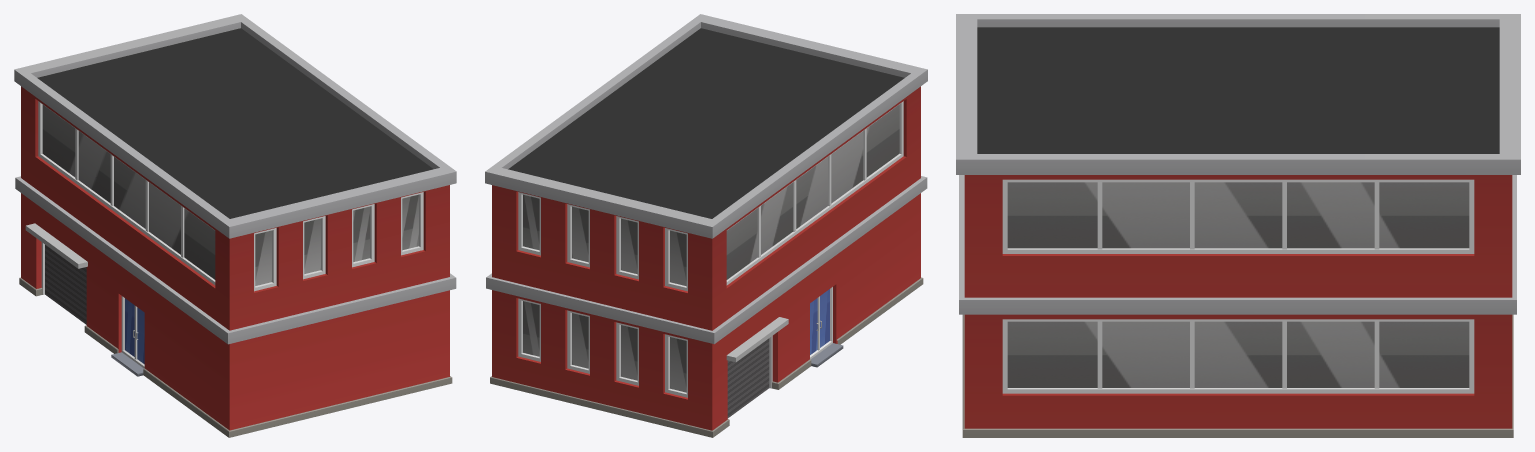
File: Building_Factory_3_A.fbx
The picture shows the model from 3 angles, left to right: view 1: azimuth 30°, elevation 25°; view 2: azimuth 150°, elevation 25°; view 3: azimuth 270°, elevation 25°; orthographic projection. The views are drawn at different scales.
Parts seen in each view (by area): view 1: Building_Factory_3_A; view 2: Building_Factory_3_A; view 3: Building_Factory_3_A.
Part boxes in pixels (box(x1,y1,x2,y2)): Building_Factory_3_A: box(14, 14, 456, 437); Building_Factory_3_A: box(485, 14, 927, 437); Building_Factory_3_A: box(956, 14, 1520, 437).
Size of the model in its own units: 901 by 785 by 1437.
